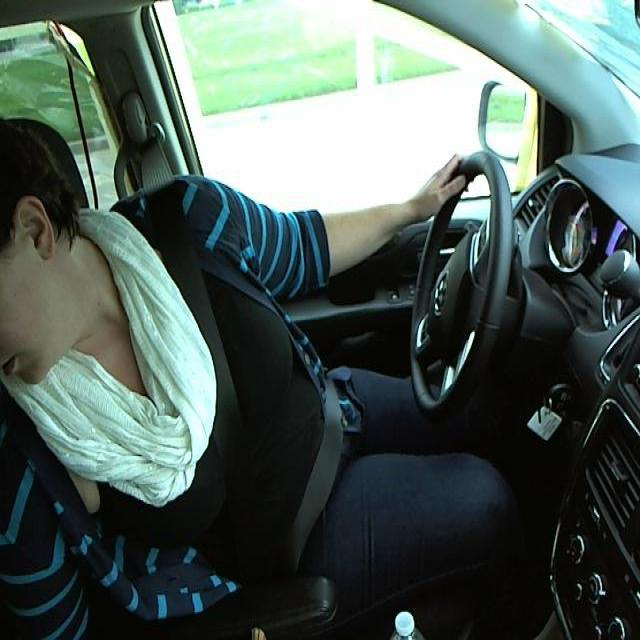seatbelt: (158, 225, 351, 544)
